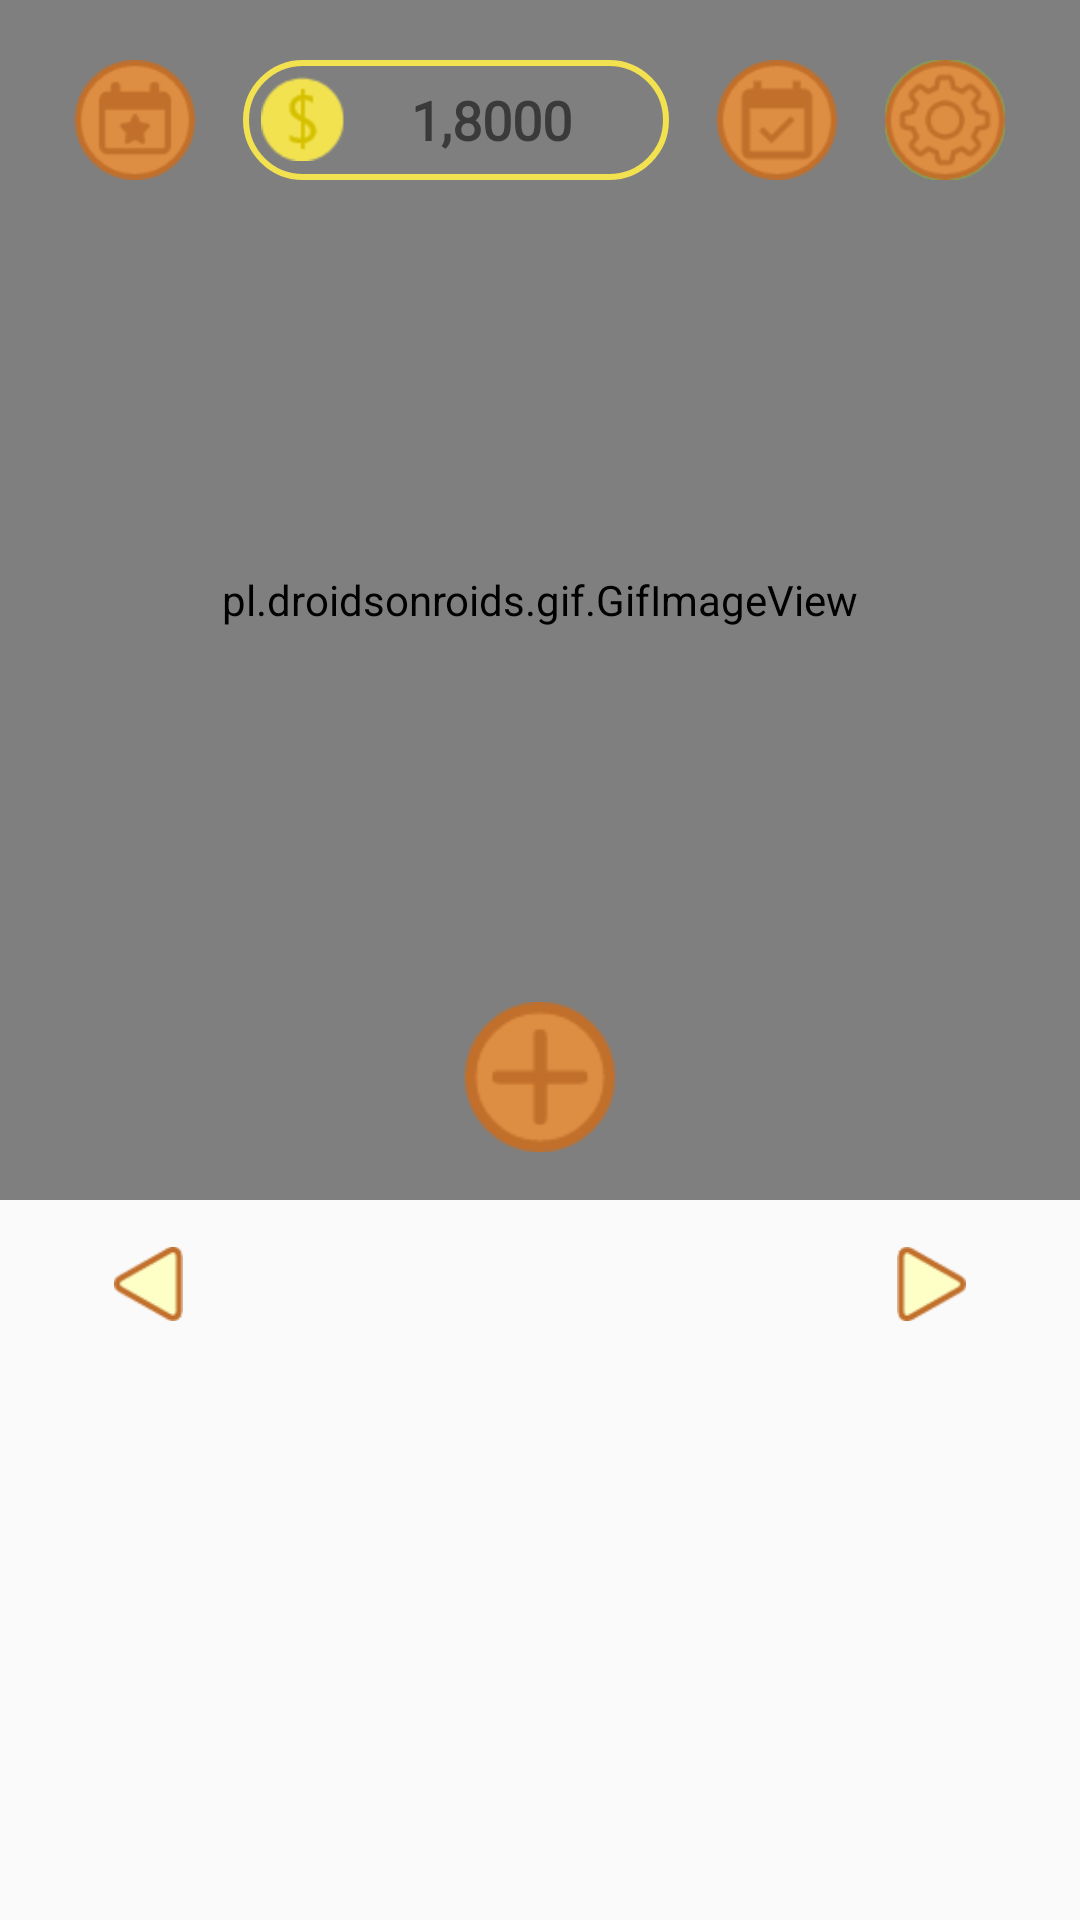

Icon click points for this 1080w x 1920h phone screenshot, format point (x, y):
add: point (540, 1077)
money: point (302, 119)
pickday: point (135, 120)
today: point (777, 120)
